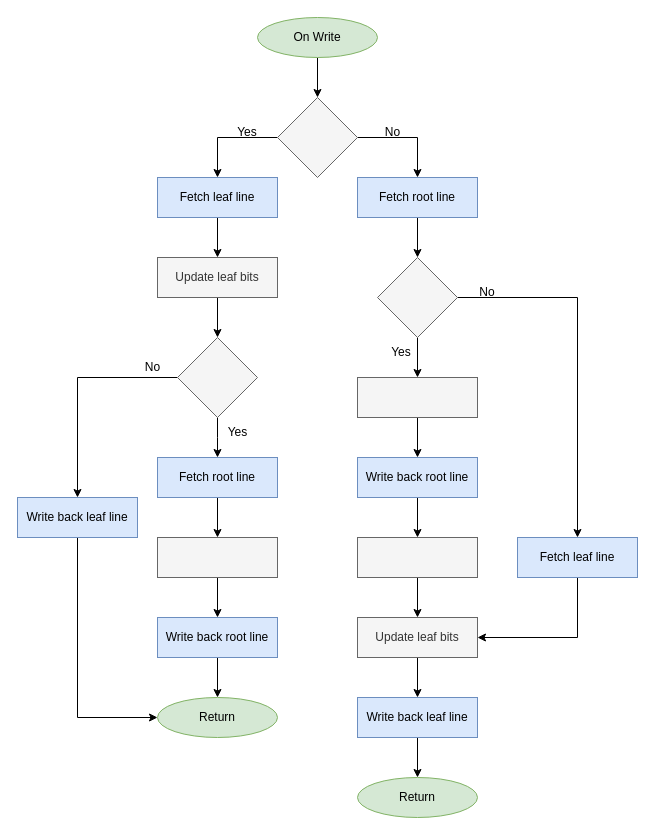
Some shapes in this 655 by 835 pixel diagram are drawn without their labels. Each missing label, with the box of its shape:
Clear root bit: (156, 536, 278, 578)
Entire leaf line 0s?: (176, 336, 258, 418)
Generate new leaf line full of 0s: (356, 536, 478, 578)
Root bit 0?: (376, 256, 458, 338)
Set root bit: (356, 376, 478, 418)
Writing 0s?: (276, 96, 358, 178)
